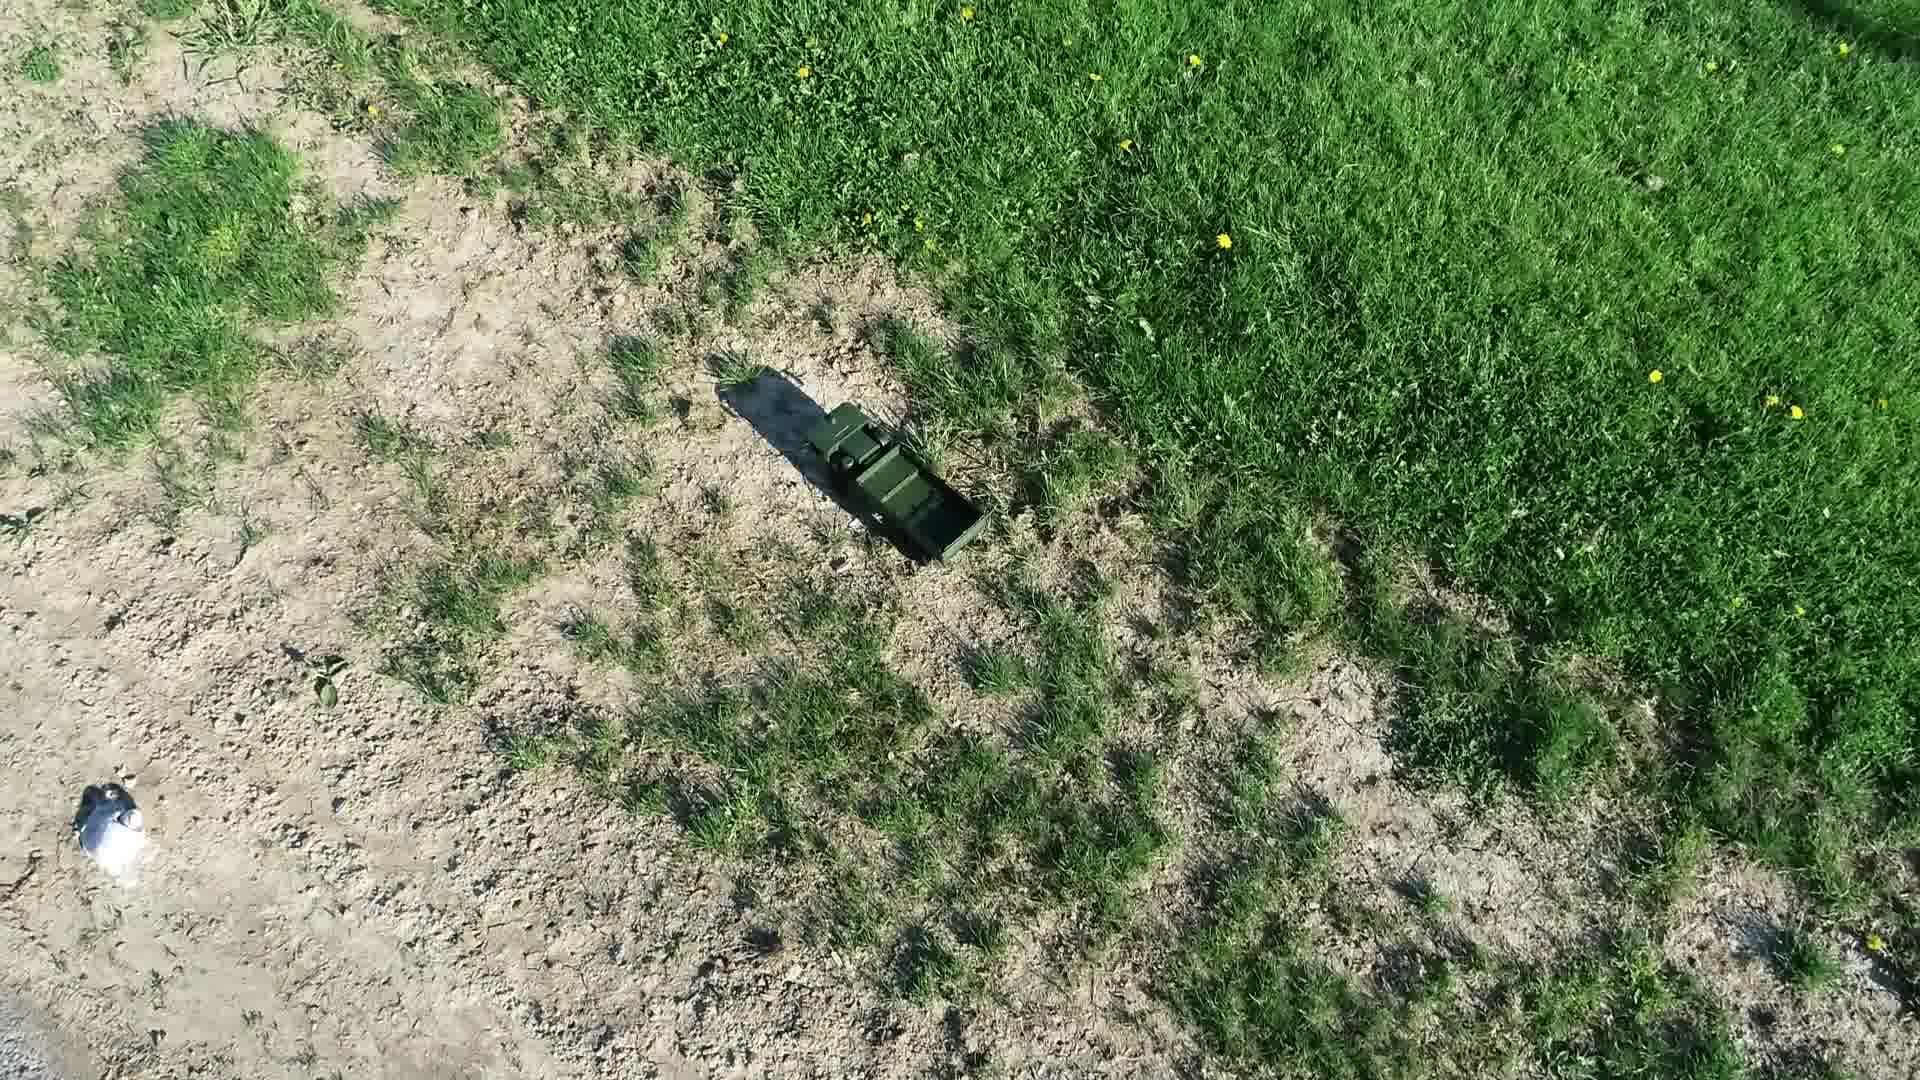transporter9: (778, 398, 1005, 570)
